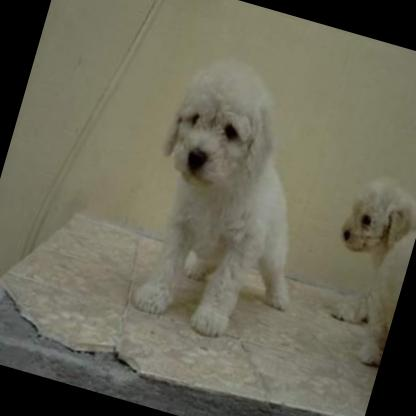toy_poodle: (111, 38, 352, 356), (308, 168, 416, 365)
